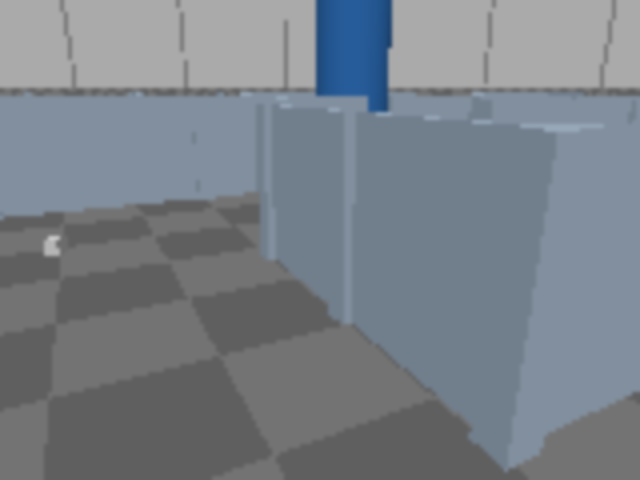puck: (43, 235, 69, 257)
